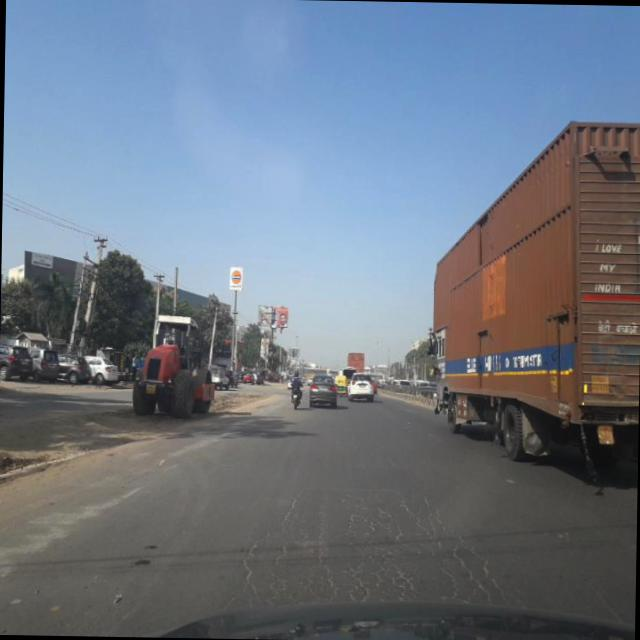crack: (235, 475, 514, 625)
